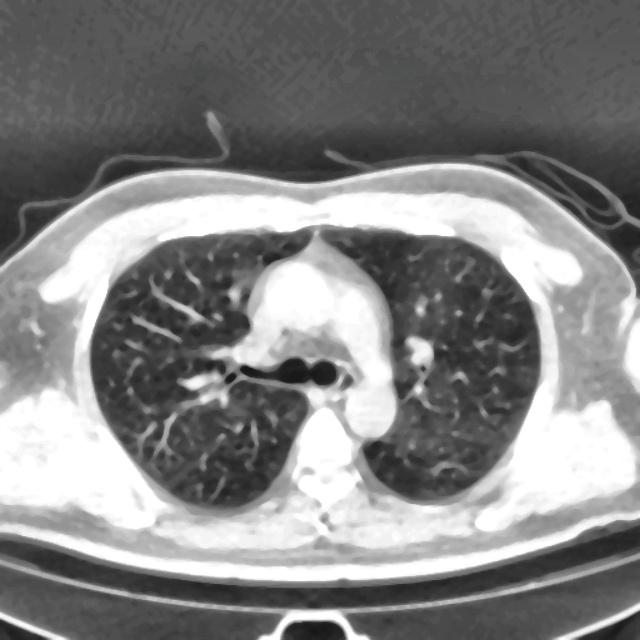covid: (0, 153, 638, 586)
